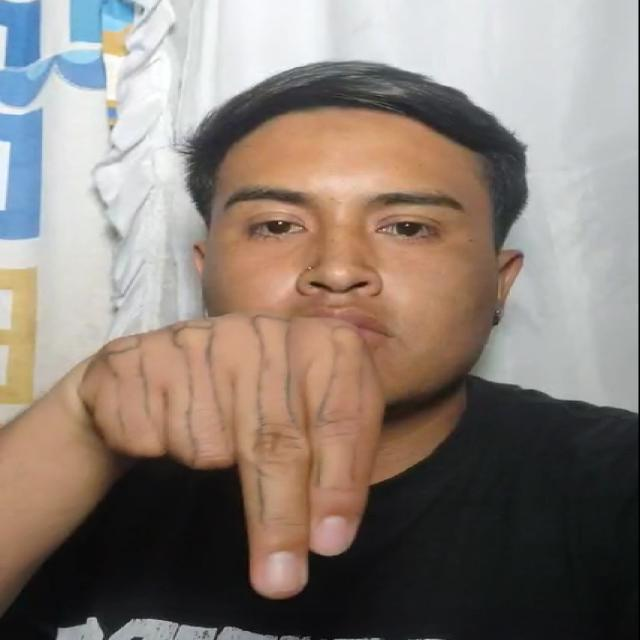N: (74, 298, 396, 616)
